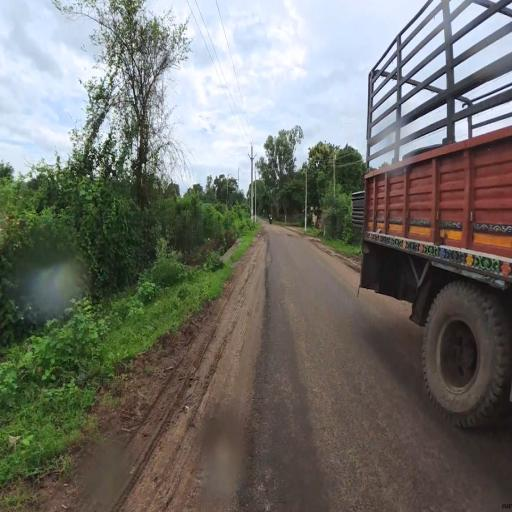edge_damage: (246, 231, 286, 471)
